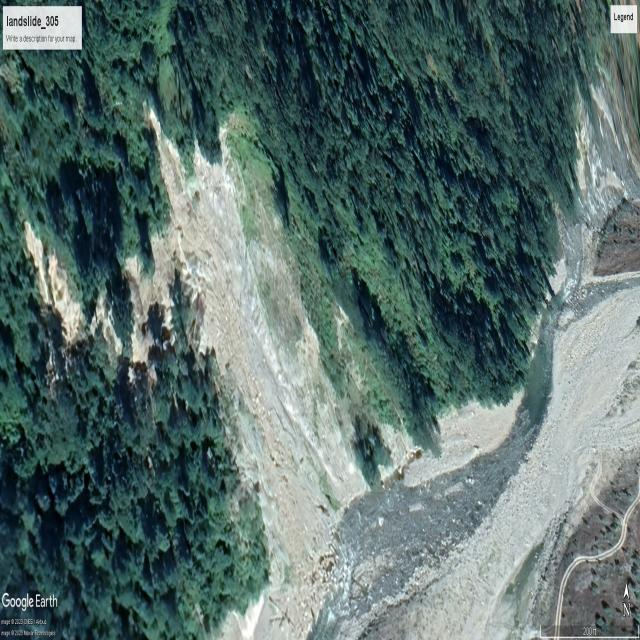Landslide: (142, 99, 372, 611)
